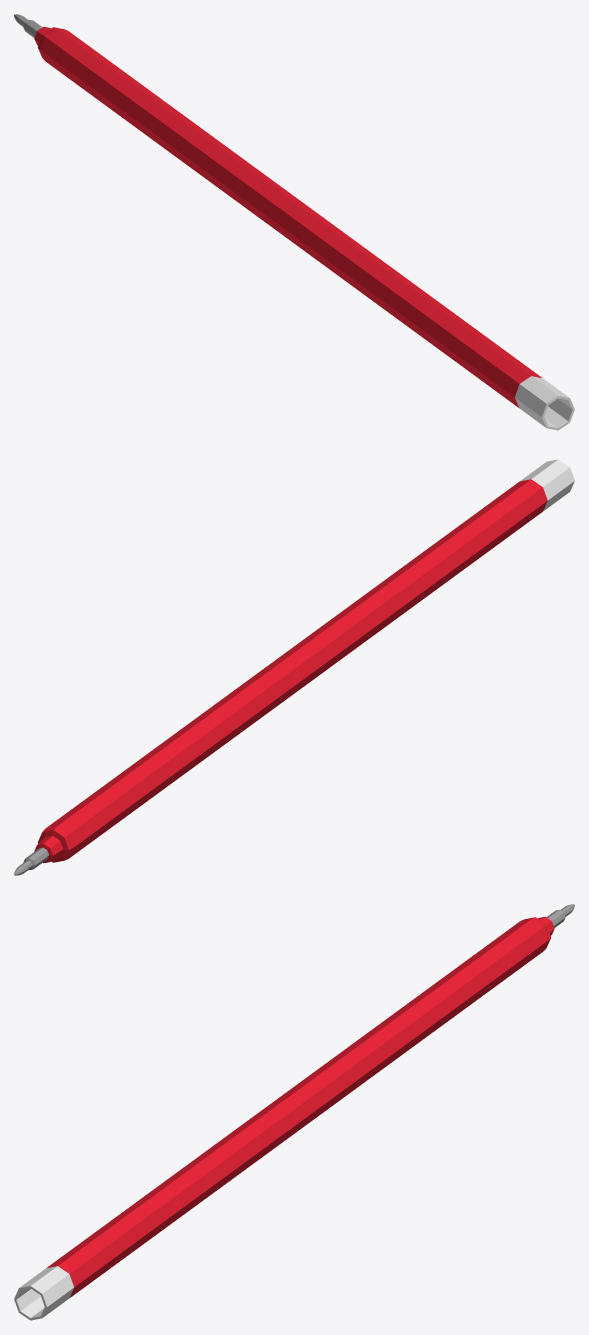
Rendered from heavyArrow.fbx.
The picture shows the model from 3 angles, top to bottom: view 1: azimuth 30°, elevation 25°; view 2: azimuth 150°, elevation 25°; view 3: azimuth 330°, elevation 25°; orthographic projection.
Visible parts, largest first — view 1: Cylinder.002; view 2: Cylinder.002; view 3: Cylinder.002.
Part boxes in pixels (left/top/right/bottom): Cylinder.002: left=14, top=14, right=574, bottom=430; Cylinder.002: left=14, top=459, right=574, bottom=875; Cylinder.002: left=14, top=904, right=574, bottom=1320.
Size of the model in its own units: 94 by 94 by 2678.
